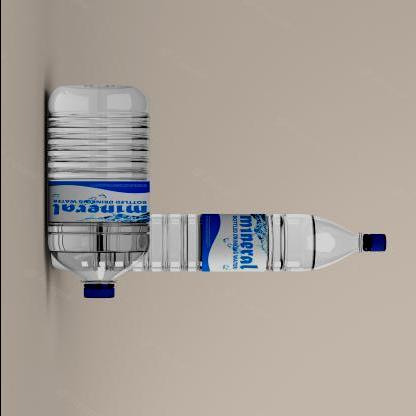bottle: (37, 78, 156, 300), (40, 208, 388, 276)
